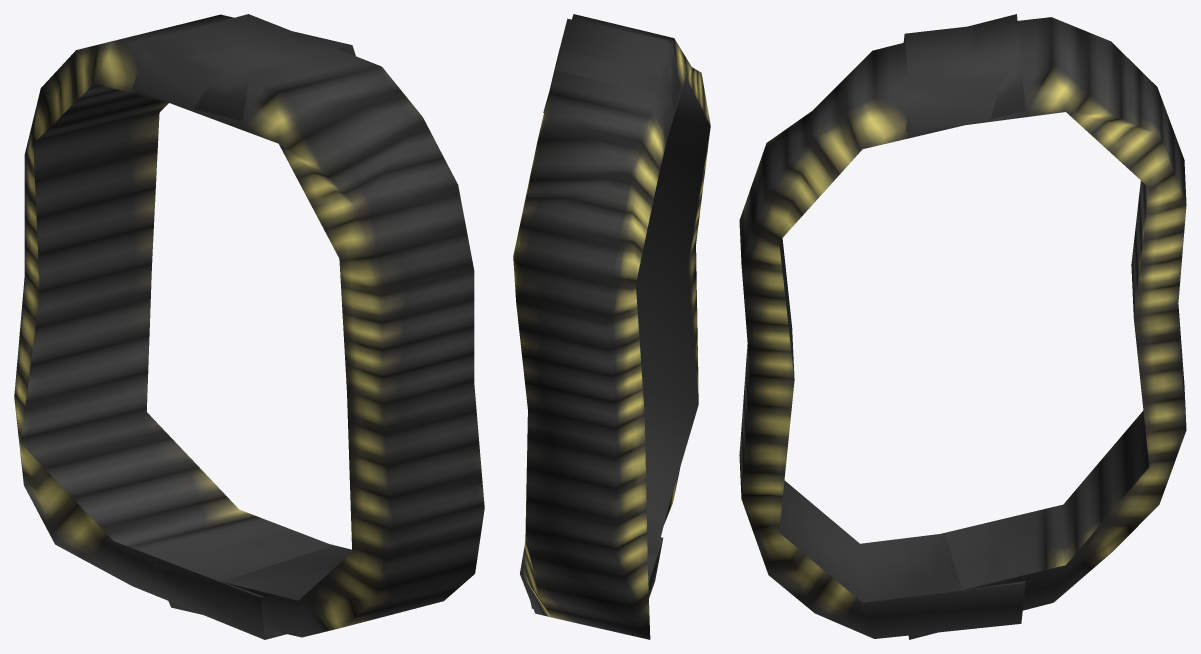
Rendered from FBandolier1.fbx.
3 renders of one model, left to right at view 1: azimuth 30°, elevation 25°; view 2: azimuth 150°, elevation 25°; view 3: azimuth 270°, elevation 25°, orthographic. The views are drawn at different scales.
Visible parts, largest first — view 1: node_e6546090_ccc0_49cf_8d3a_5e22e91bf83a_mesh0; view 2: node_e6546090_ccc0_49cf_8d3a_5e22e91bf83a_mesh0; view 3: node_e6546090_ccc0_49cf_8d3a_5e22e91bf83a_mesh0.
Boxes of the visible parts, x1=… form: node_e6546090_ccc0_49cf_8d3a_5e22e91bf83a_mesh0: x1=14, y1=14, x2=484, y2=639; node_e6546090_ccc0_49cf_8d3a_5e22e91bf83a_mesh0: x1=513, y1=14, x2=710, y2=639; node_e6546090_ccc0_49cf_8d3a_5e22e91bf83a_mesh0: x1=739, y1=14, x2=1186, y2=639.
Bounding box in the file's own units: 0.0909 × 0.1868 × 0.1372.
